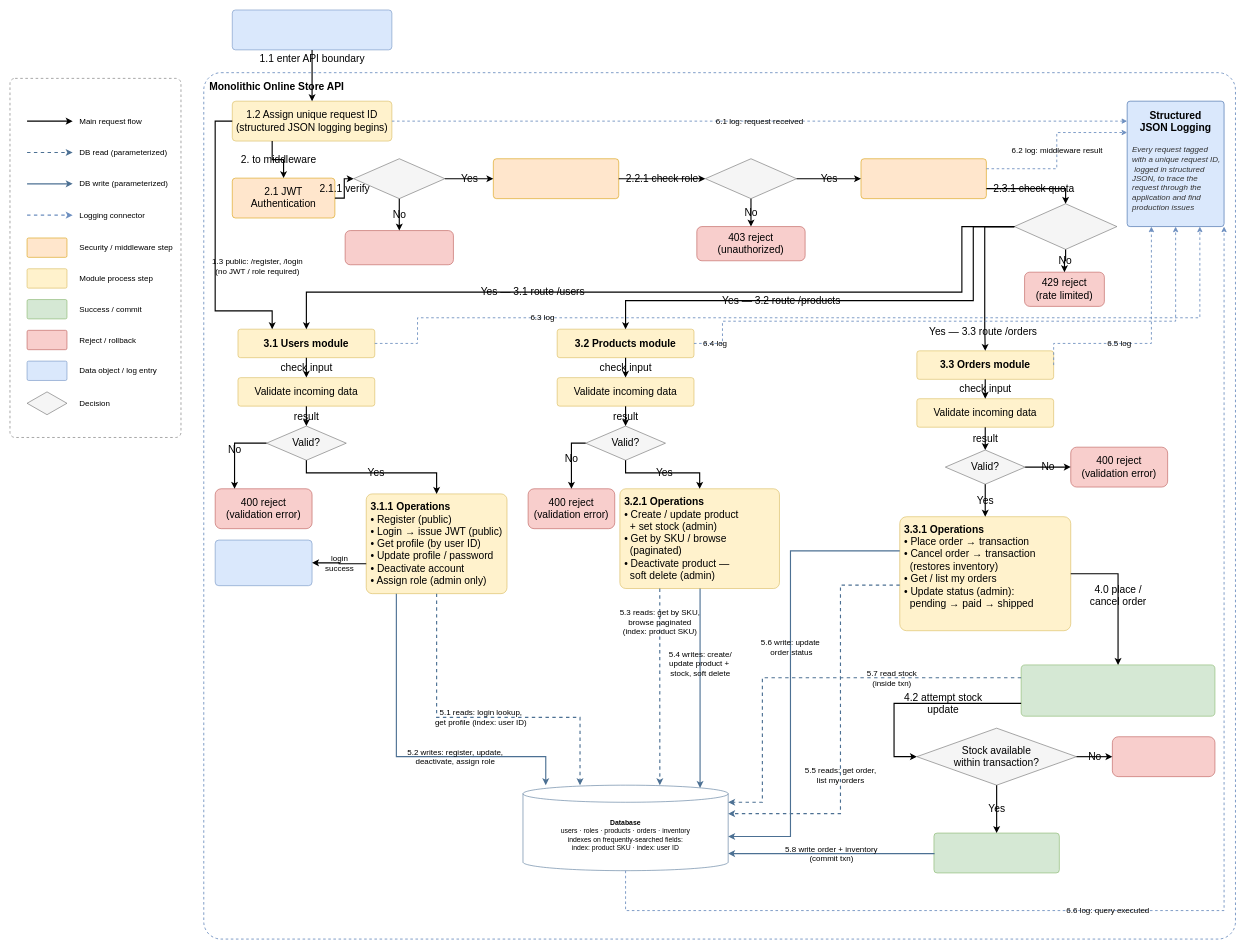
The diagram is 1246 pixels wide and 950 high, and some of its shapes have lost their labels. The shapes that lost their labels are listed below. From the top down, each one's box as (x1, y1, x2, y2) in pixels, then its label:
(232, 9, 392, 50): 1. Incoming API request (JSON payload)
(353, 158, 445, 199): Valid token?
(493, 158, 619, 199): 2.2 RBAC Role Check
(705, 158, 797, 199): Role permitted?
(860, 158, 986, 199): 2.3 Redis Rate Limiter
(1014, 203, 1117, 249): Within request limit?
(9, 78, 181, 438): Legend
(345, 230, 453, 265): 401 reject (unauthenticated)
(215, 540, 312, 586): Signed JWT returned to client
(1021, 664, 1215, 716): 4.1 Place / cancel order: single ACID database transaction (order + inventory)
(1112, 736, 1215, 777): 4.3 Rollback (no changes saved)
(933, 832, 1059, 873): 4.4 Commit: Order accepted / cancelled
